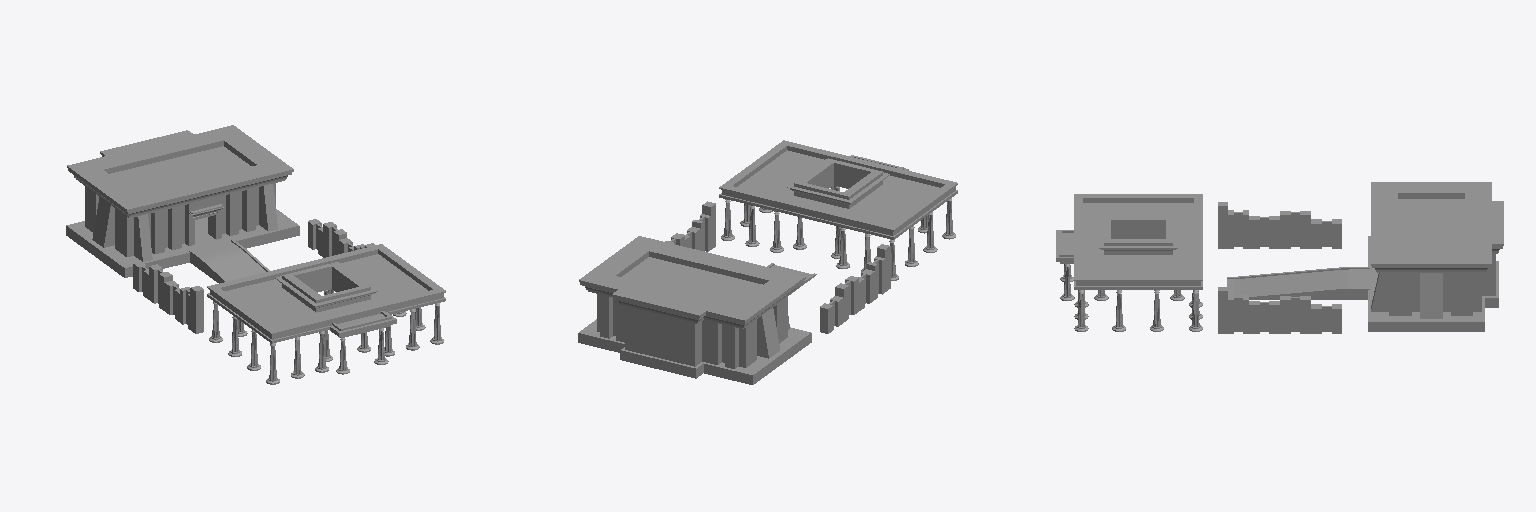
Rendered from temple3.obj.
3 renders of one model, left to right at view 1: azimuth 30°, elevation 25°; view 2: azimuth 150°, elevation 25°; view 3: azimuth 270°, elevation 25°, orthographic.
Visible parts, largest first — view 1: temple3_12_temple3_2, temple3_11_temple3_5, temple3_31_temple3_3, temple3_32_temple3_4, temple3_22_temple3_1, temple3_21_temple3_6; view 2: temple3_12_temple3_2, temple3_11_temple3_5, temple3_31_temple3_3, temple3_32_temple3_4, temple3_22_temple3_1, temple3_21_temple3_6; view 3: temple3_11_temple3_5, temple3_12_temple3_2, temple3_32_temple3_4, temple3_31_temple3_3, temple3_22_temple3_1, temple3_21_temple3_6.
Part boxes in pixels (bbox=[...]): temple3_12_temple3_2: bbox=[66, 141, 246, 283]; temple3_11_temple3_5: bbox=[145, 125, 299, 276]; temple3_31_temple3_3: bbox=[207, 265, 367, 343]; temple3_32_temple3_4: bbox=[295, 244, 445, 331]; temple3_22_temple3_1: bbox=[133, 261, 203, 333]; temple3_21_temple3_6: bbox=[308, 219, 374, 257]; temple3_12_temple3_2: bbox=[656, 256, 816, 384]; temple3_11_temple3_5: bbox=[578, 236, 792, 368]; temple3_31_temple3_3: bbox=[807, 161, 957, 239]; temple3_32_temple3_4: bbox=[719, 140, 877, 218]; temple3_22_temple3_1: bbox=[820, 244, 890, 333]; temple3_21_temple3_6: bbox=[665, 201, 715, 251]; temple3_11_temple3_5: bbox=[1228, 223, 1503, 331]; temple3_12_temple3_2: bbox=[1227, 182, 1503, 288]; temple3_32_temple3_4: bbox=[1056, 229, 1202, 289]; temple3_31_temple3_3: bbox=[1056, 194, 1202, 243]; temple3_22_temple3_1: bbox=[1218, 202, 1341, 248]; temple3_21_temple3_6: bbox=[1218, 287, 1341, 333].
Size of the model in its own units: 10.97 by 3.8 by 23.28.